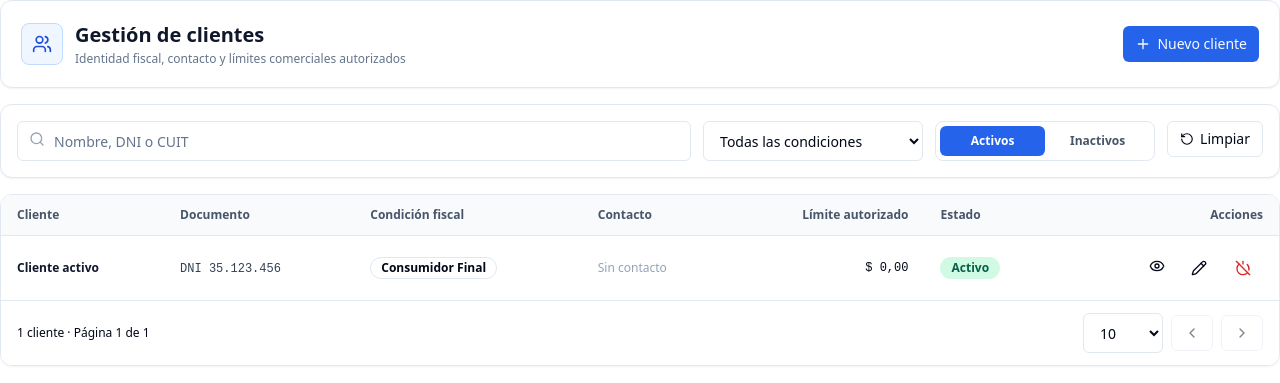
CustomersListPage › navigates between active and inactive URL-backed lists without a global reload
The image size is (1280, 383).
Expected: the text "Cliente activo" is shown, [1,236,164,300]
Click the button "Inactivos" at x=1098, y=141, box [1045,126,1150,156]
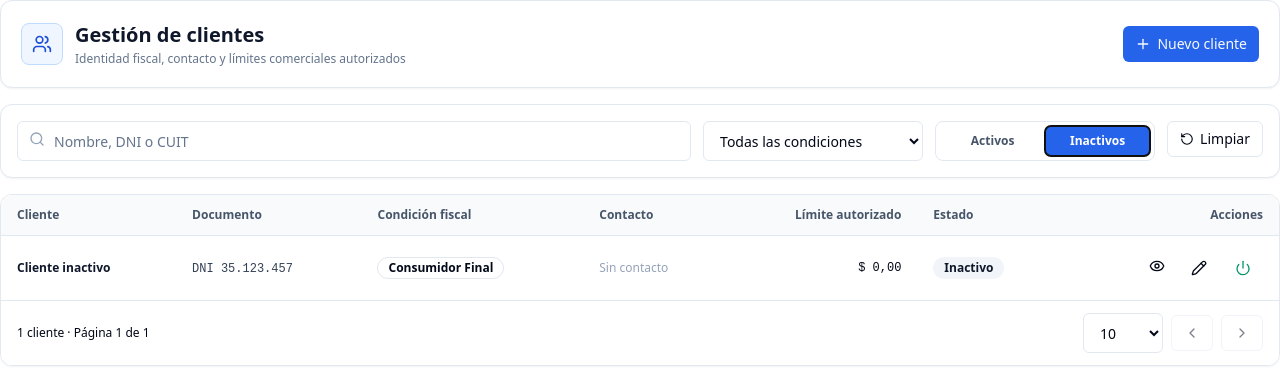
Expected: the text "Cliente activo" is not shown
Expected: the text "Cliente inactivo" is shown, [1,236,176,300]
